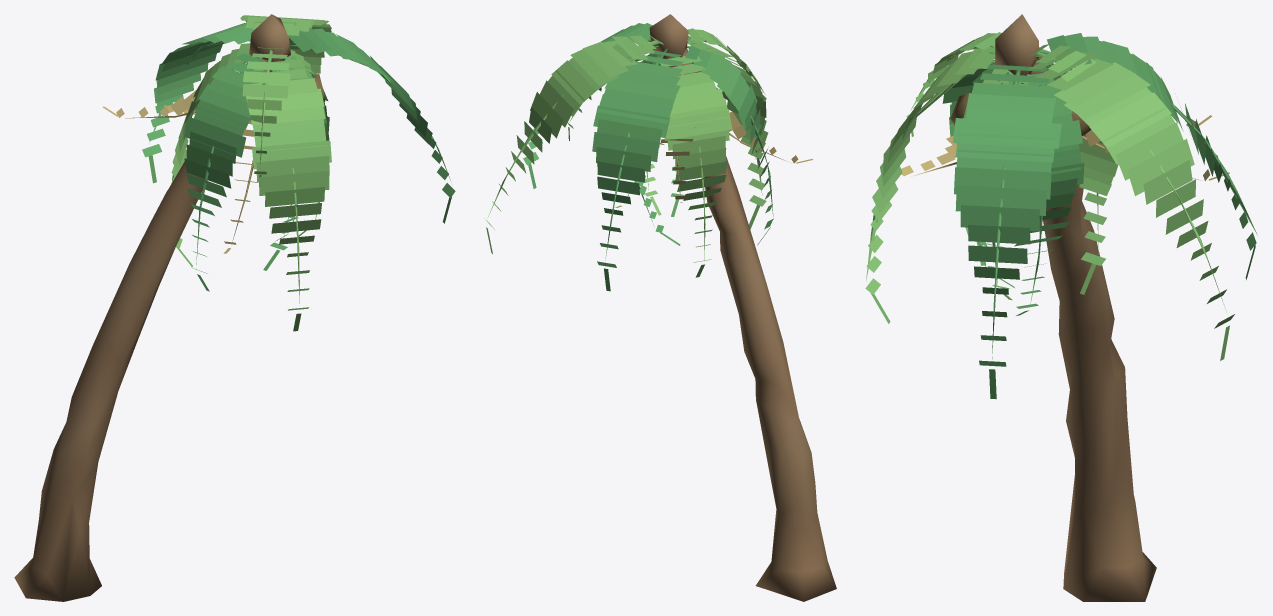
The model's file is palm_b_far.glb.
3 views of the same model, side by side, from view 1: azimuth 30°, elevation 25°; view 2: azimuth 150°, elevation 25°; view 3: azimuth 270°, elevation 25° (orthographic). The views are drawn at different scales.
Parts seen in each view (by area): view 1: palm_b; view 2: palm_b; view 3: palm_b.
Boxes of the visible parts, x1,y1,x2,y2 form: palm_b: [14, 14, 455, 601]; palm_b: [484, 14, 836, 601]; palm_b: [865, 14, 1257, 601].
Size of the model in its own units: 5.05 by 6.99 by 3.7.
